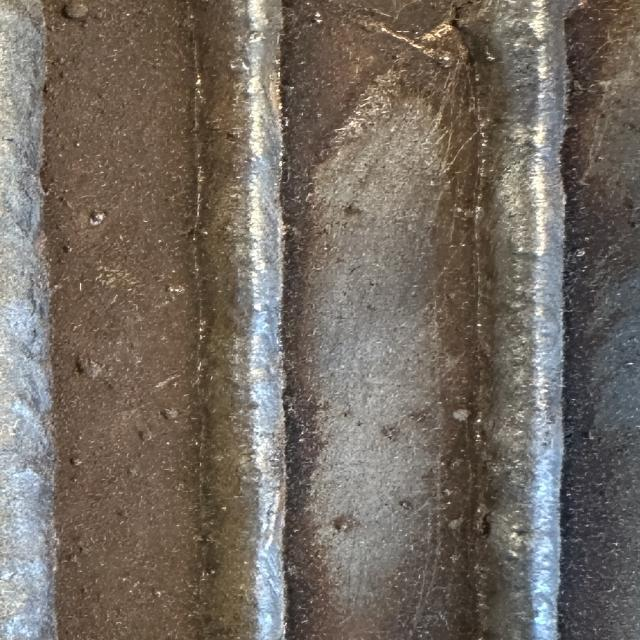Spatters: (63, 0, 88, 19), (90, 211, 107, 226), (452, 409, 470, 421), (398, 500, 413, 510), (313, 11, 323, 24), (575, 249, 585, 258), (70, 458, 82, 465), (227, 130, 237, 138), (357, 420, 363, 426)
